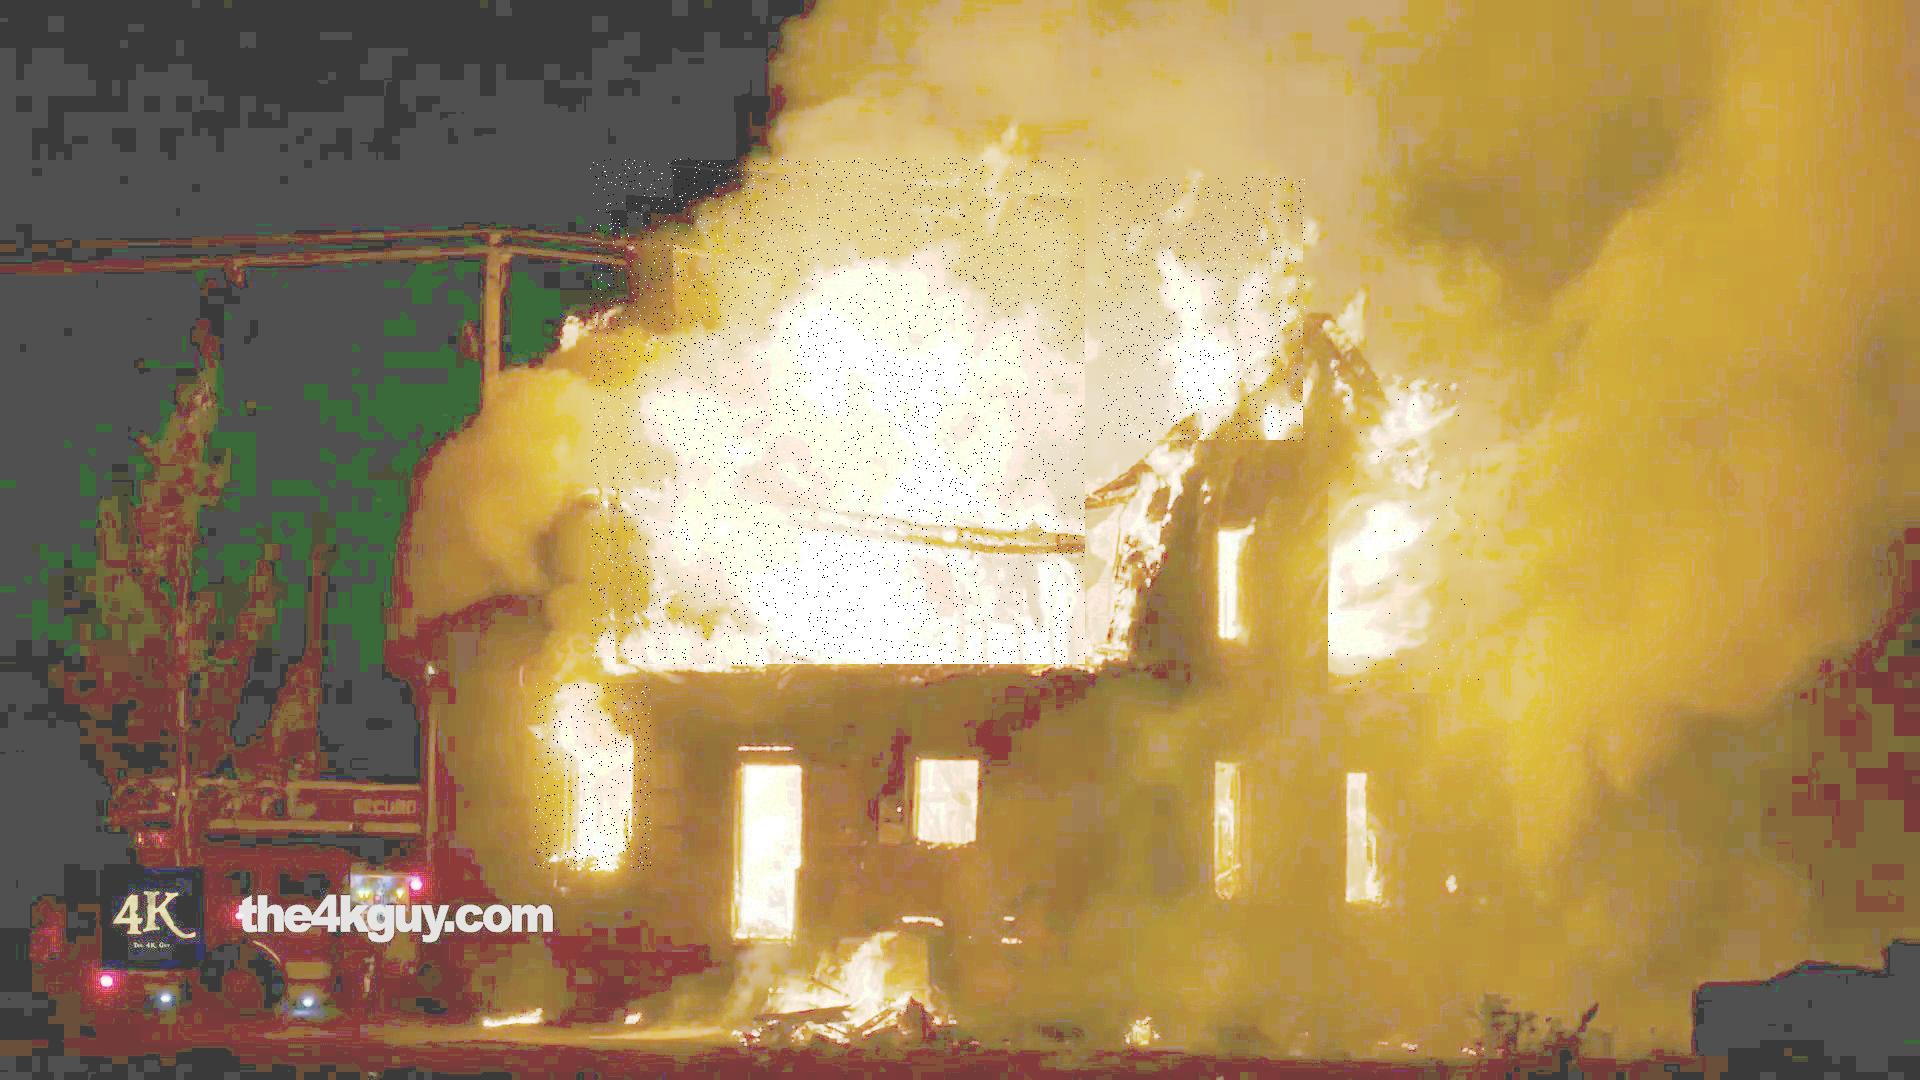fire: (591, 158, 1085, 665), (1098, 178, 1305, 443), (1329, 381, 1493, 695), (535, 683, 651, 870)
